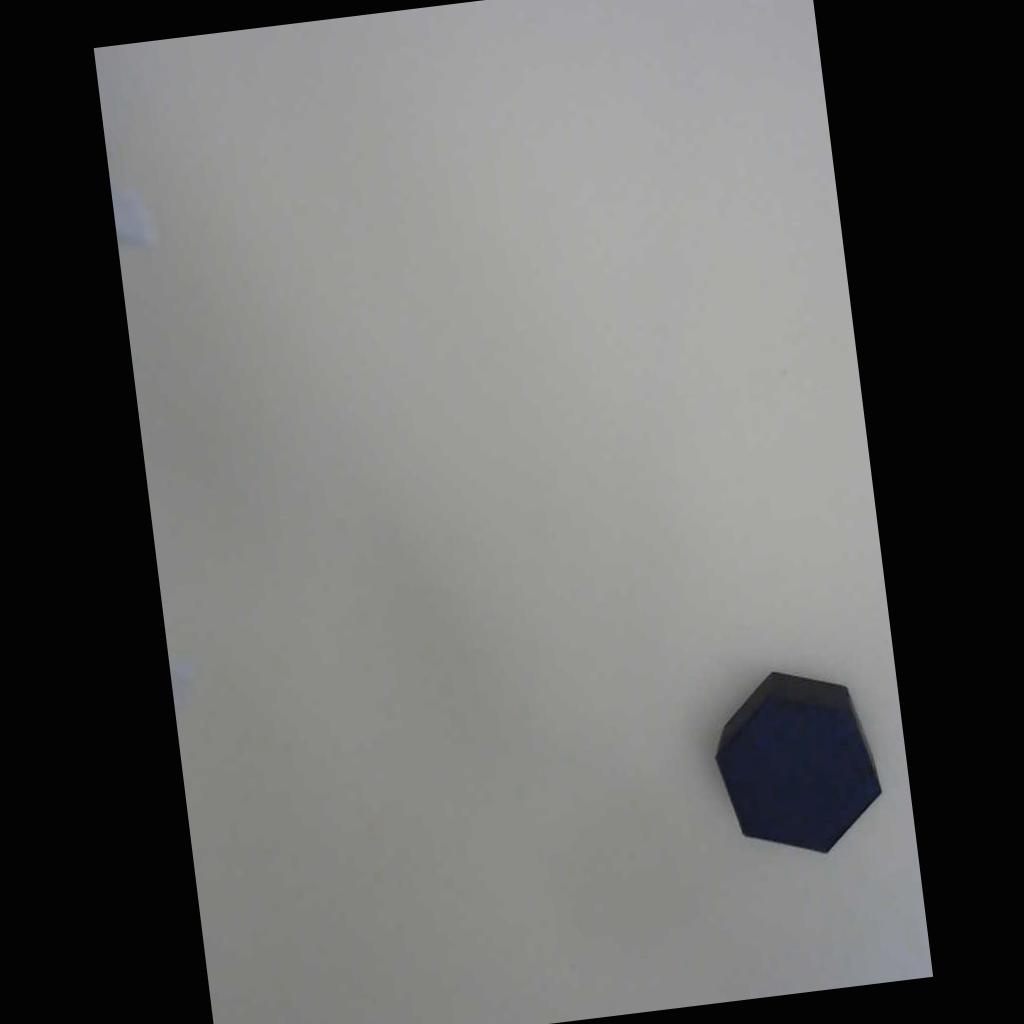hexagon: (666, 624, 924, 902)
